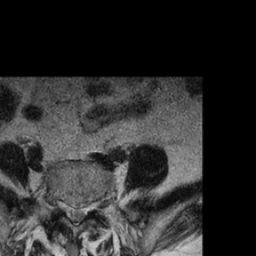CCS_normal: (72, 198, 79, 232)
LFS_normal: (87, 193, 96, 218)
LLS_normal: (79, 196, 87, 226)
RFS_normal: (57, 190, 65, 216)
RLS_normal: (65, 195, 72, 225)
